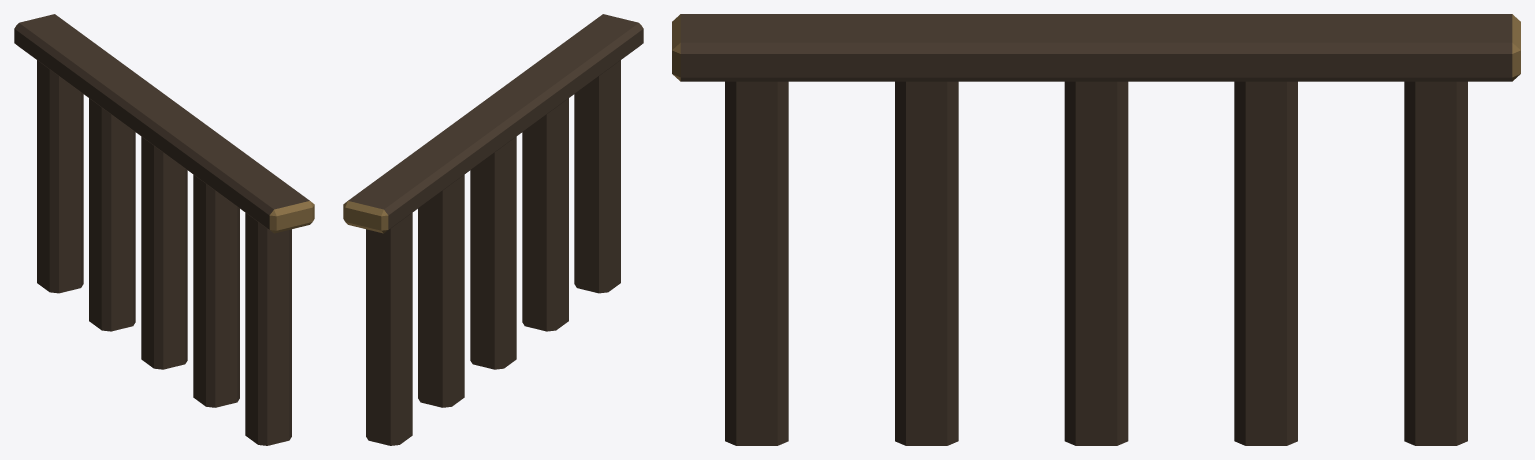
File: Railling_1.fbx
3 renders of one model, left to right at view 1: azimuth 30°, elevation 25°; view 2: azimuth 150°, elevation 25°; view 3: azimuth 270°, elevation 25°, orthographic. The views are drawn at different scales.
Visible parts, largest first — view 1: polySurface2554; view 2: polySurface2554; view 3: polySurface2554.
Boxes of the visible parts, x1,y1,x2,y2 form: polySurface2554: (14,14,314,445); polySurface2554: (343,14,643,445); polySurface2554: (672,14,1520,445).
Size of the model in its own units: 20 by 105 by 200.
